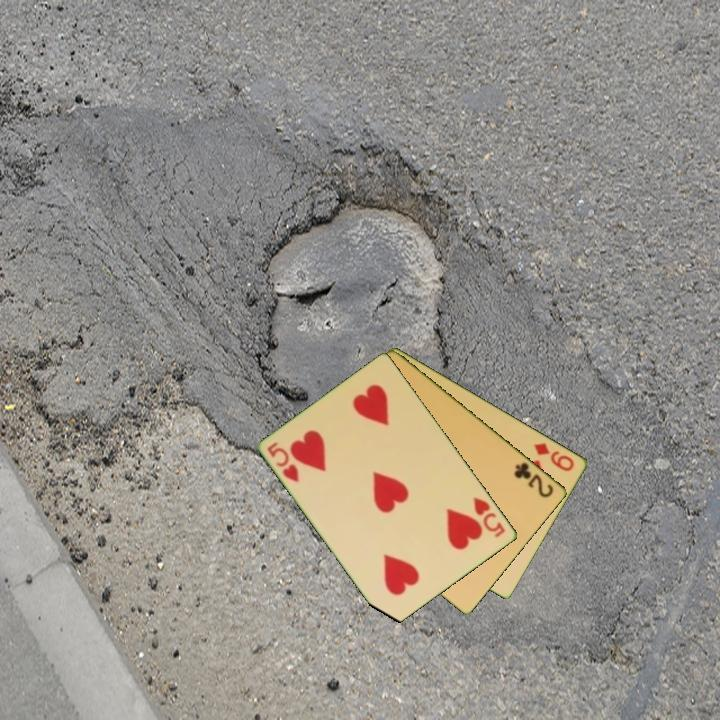2c: (511, 459, 557, 501)
5h: (470, 493, 508, 541), (264, 438, 302, 486)
9d: (531, 439, 578, 474)
